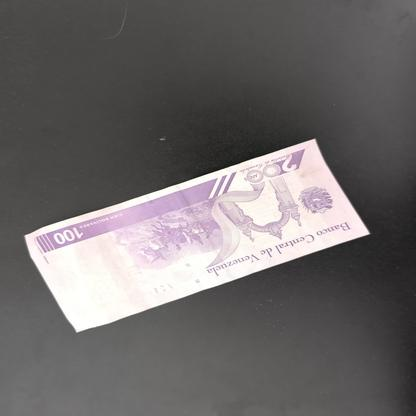one_hundred-back-vef: (23, 138, 370, 332)
